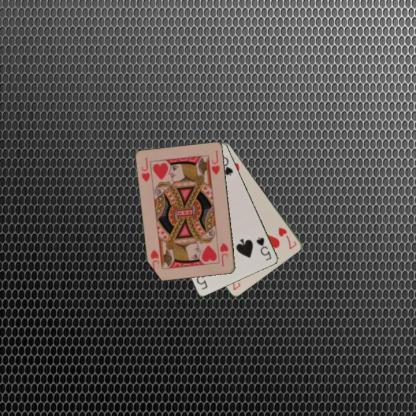5s: (254, 234, 272, 262)
7h: (276, 225, 298, 251)
Jh: (217, 240, 230, 268), (139, 155, 151, 183)
